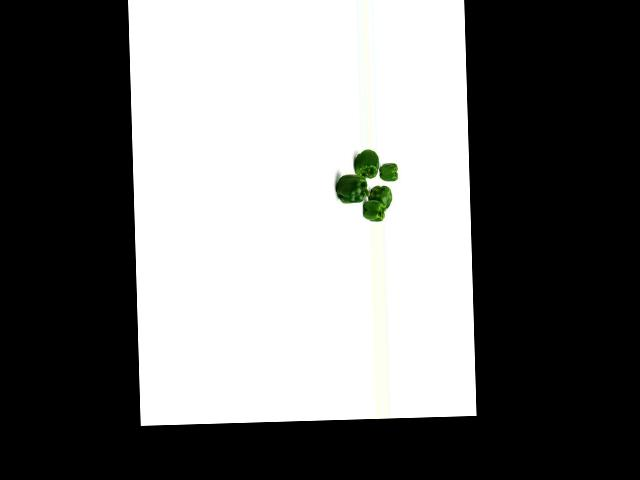bell_pepper: (360, 198, 385, 222)
